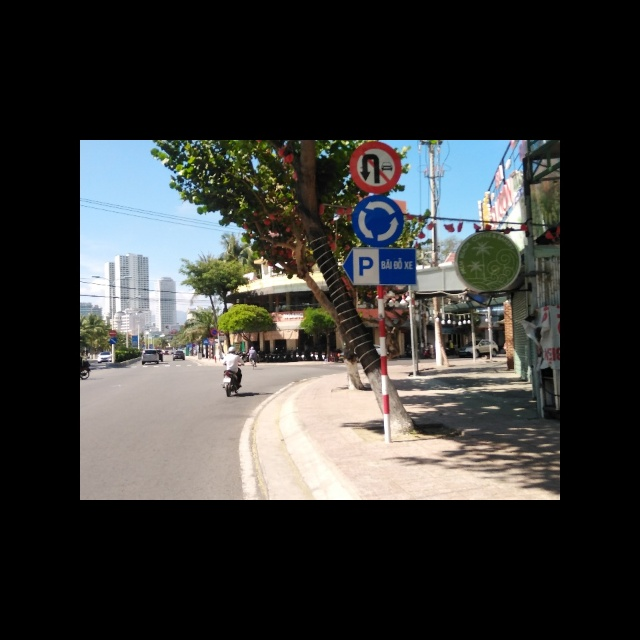Cấm xe ô tô quay đầu: (349, 142, 401, 193)
Nơi giao nhau chạy theo vòng xuyến: (352, 194, 404, 246)
Nơi đỗ xe: (340, 249, 416, 286)
